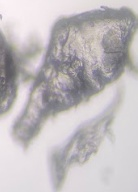microplastic: (12, 4, 138, 143), (46, 88, 123, 192), (1, 27, 18, 117), (1, 13, 4, 21)
